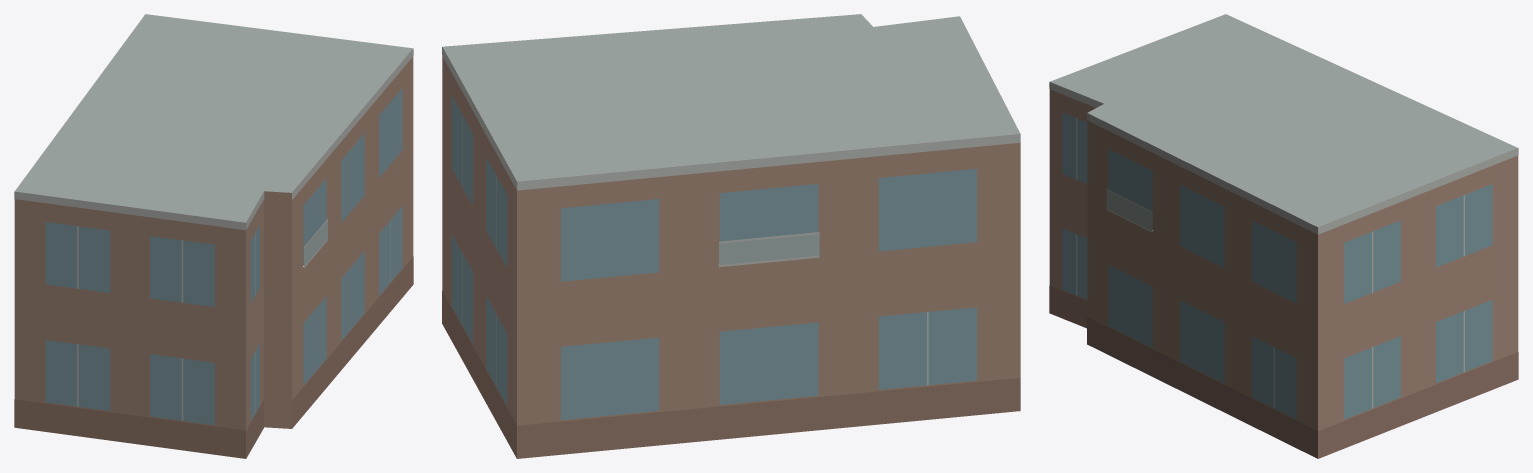
The model's file is survey-upis-32929376.glb.
3 renders of one model, left to right at view 1: azimuth 30°, elevation 25°; view 2: azimuth 150°, elevation 25°; view 3: azimuth 270°, elevation 25°, orthographic. The views are drawn at different scales.
Parts seen in each view (by area): view 1: survey-upis-32929376.tmp; view 2: survey-upis-32929376.tmp; view 3: survey-upis-32929376.tmp.
Part boxes in pixels (left/top/right/bottom): survey-upis-32929376.tmp: left=14, top=14, right=413, bottom=458; survey-upis-32929376.tmp: left=442, top=14, right=1020, bottom=458; survey-upis-32929376.tmp: left=1049, top=14, right=1518, bottom=458.
Bounding box in the file's own units: 15.23 × 7.7 × 14.14.
